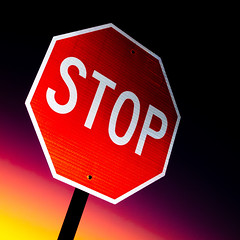StopSign: (24, 22, 179, 204)
